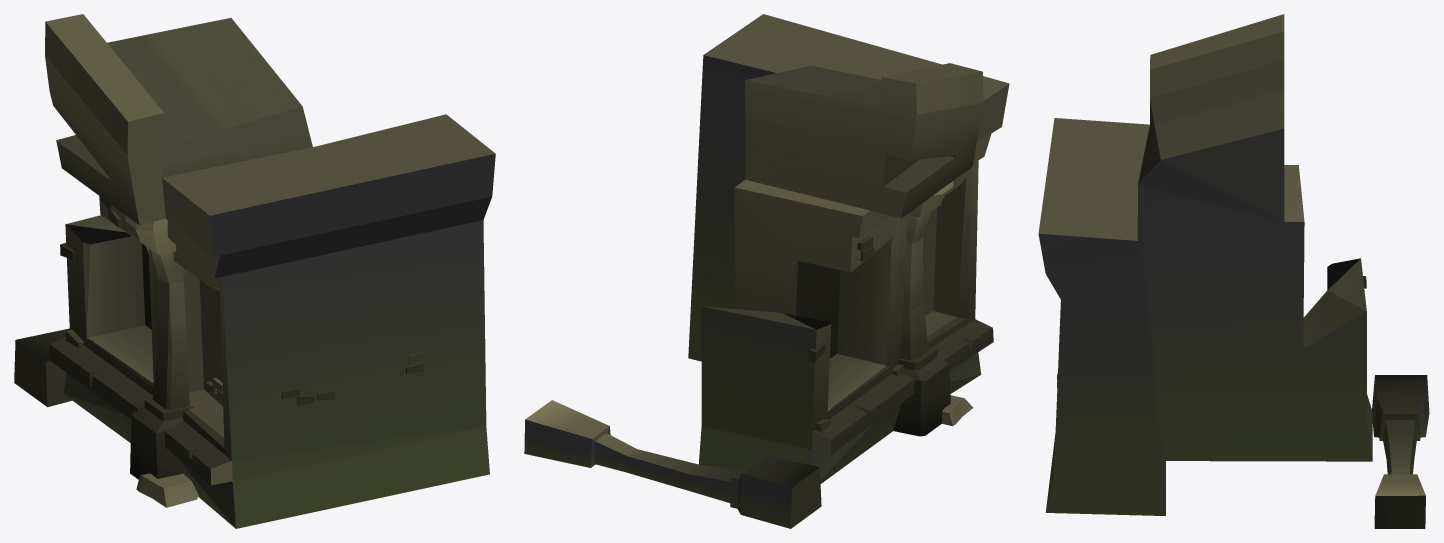
The model's file is ea_bld_tomb_mossy_ruined_01b_pre_lev1.glb.
The picture shows the model from 3 angles, left to right: view 1: azimuth 30°, elevation 25°; view 2: azimuth 150°, elevation 25°; view 3: azimuth 270°, elevation 25°; orthographic projection. The views are drawn at different scales.
Visible parts, largest first — view 1: ea_bld_tomb_mossy_ruined_01b_pre_lev1; view 2: ea_bld_tomb_mossy_ruined_01b_pre_lev1; view 3: ea_bld_tomb_mossy_ruined_01b_pre_lev1.
Boxes of the visible parts, x1,y1,x2,y2 form: ea_bld_tomb_mossy_ruined_01b_pre_lev1: (14,14,495,528); ea_bld_tomb_mossy_ruined_01b_pre_lev1: (524,14,1009,528); ea_bld_tomb_mossy_ruined_01b_pre_lev1: (1038,14,1429,528).
Size of the model in its own units: 4.41 by 5.32 by 5.
Materials: 1 (1 with a texture image).
